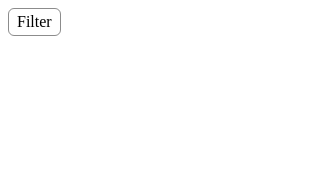
Test: FilterBox (spec filter §3, §5) › announces N of M items, and speaks a repeat again by alternating a trailing no-break space
Later steps or results of the test are not shown.
Click the button "Filter" at point(34, 22), box [8,8,61,36]
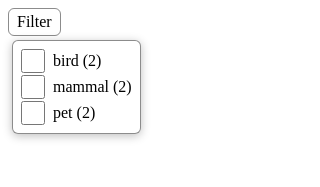
Click the checkbox labelled "mammal (2)" at point(33, 87), box [21,75,45,99]
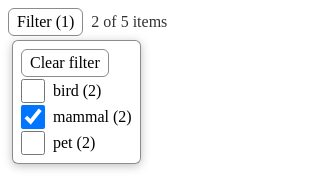
Now the message reads "2 of 5 items", box [91,13,167,30]
Click the checkbox labelled "pet (2)" at point(33, 143), box [21,131,45,155]
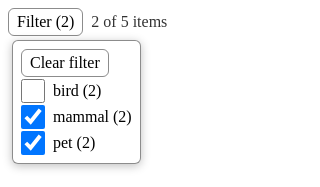
Now the message reads "2 of 5 items", box [91,13,171,30]
